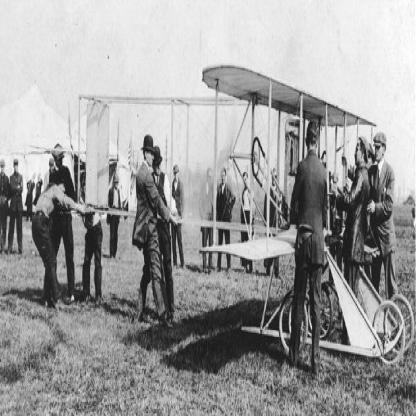CIV_Plane: (58, 54, 400, 365)
